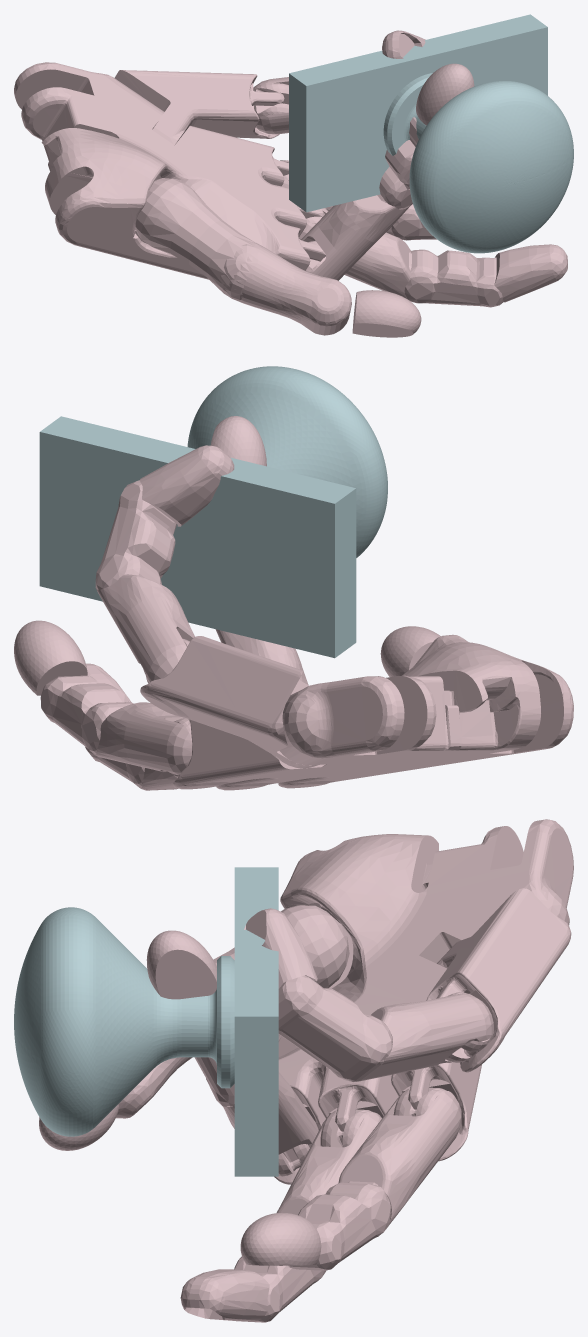
File: grasp_0.glb
The picture shows the model from 3 angles, top to bottom: view 1: azimuth 30°, elevation 25°; view 2: azimuth 150°, elevation 25°; view 3: azimuth 270°, elevation 25°; orthographic projection. The views are drawn at different scales.
Visible parts, largest first — view 1: world; view 2: world; view 3: world.
Part boxes in pixels (x1,y1,x2,y2): world: (14,14,573,337); world: (14,366,573,790); world: (14,819,573,1322).
Bounding box in the file's own units: 0.1974 × 0.113 × 0.1586.
